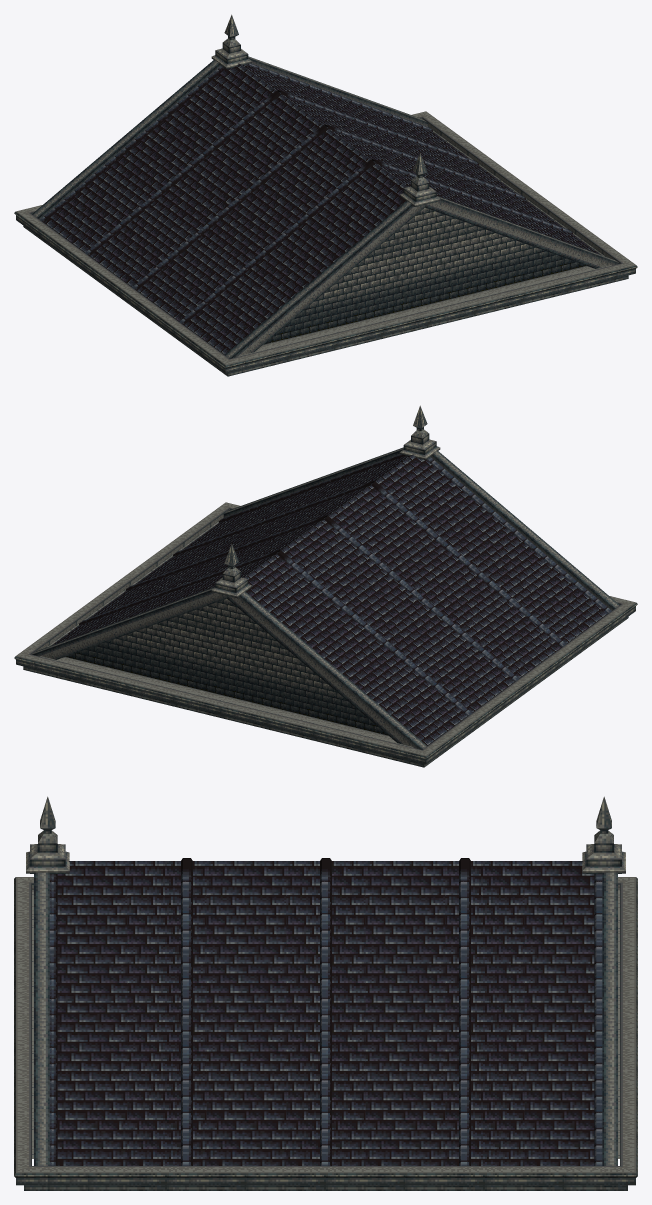
File: EnvBdgMD_Castle_Rain_A_Roof_A.FBX
The picture shows the model from 3 angles, top to bottom: view 1: azimuth 30°, elevation 25°; view 2: azimuth 150°, elevation 25°; view 3: azimuth 270°, elevation 25°; orthographic projection. The views are drawn at different scales.
Visible parts, largest first — view 1: EnvBdgMD_Castle_Rain_A_Roof_A; view 2: EnvBdgMD_Castle_Rain_A_Roof_A; view 3: EnvBdgMD_Castle_Rain_A_Roof_A.
Boxes of the visible parts, bbox=[...] form: EnvBdgMD_Castle_Rain_A_Roof_A: bbox=[14, 14, 637, 376]; EnvBdgMD_Castle_Rain_A_Roof_A: bbox=[14, 405, 637, 767]; EnvBdgMD_Castle_Rain_A_Roof_A: bbox=[14, 796, 637, 1190].
Size of the model in its own units: 1770 by 700 by 1570.
